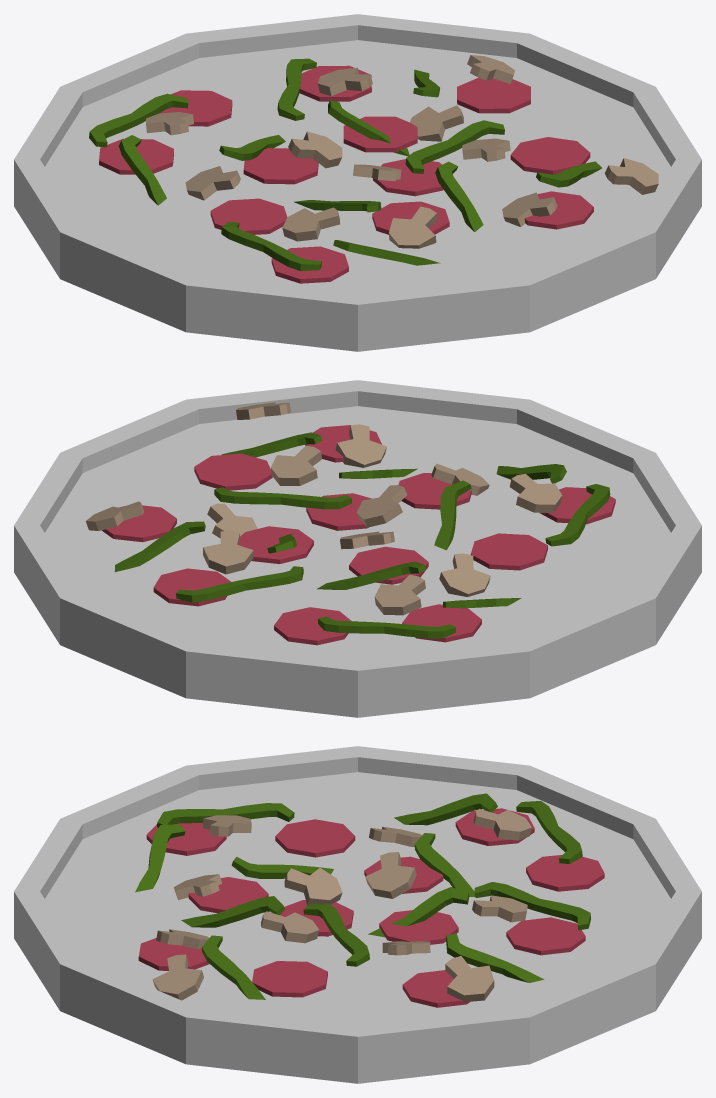
Rendered from CookedVegNPepperoni.fbx.
3 views of the same model, one above another, from view 1: azimuth 30°, elevation 25°; view 2: azimuth 150°, elevation 25°; view 3: azimuth 270°, elevation 25° (orthographic).
Visible parts, largest first — view 1: PizzaBase, VeggiesCut.004, PepperoniCut; view 2: PizzaBase, VeggiesCut.004, PepperoniCut; view 3: PizzaBase, VeggiesCut.004, PepperoniCut.
Part boxes in pixels (x1=…): PizzaBase: x1=14, y1=14, x2=701, y2=351; VeggiesCut.004: x1=89, y1=55, x2=658, y2=270; PepperoniCut: x1=99, y1=65, x2=593, y2=283; PizzaBase: x1=14, y1=380, x2=701, y2=717; VeggiesCut.004: x1=86, y1=402, x2=610, y2=638; PepperoniCut: x1=102, y1=425, x2=615, y2=645; PizzaBase: x1=14, y1=746, x2=701, y2=1083; VeggiesCut.004: x1=135, y1=793, x2=590, y2=1002; PepperoniCut: x1=138, y1=808, x2=604, y2=1007.
Size of the model in its own units: 200 by 21.9 by 200.
